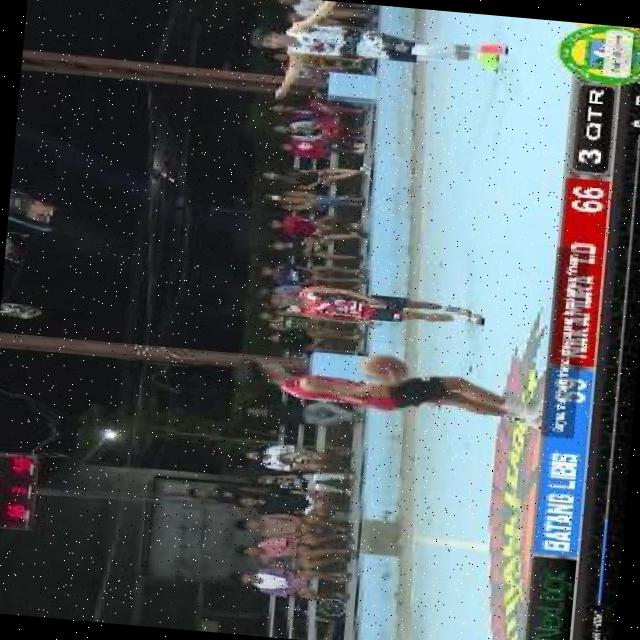ball: (358, 351, 410, 383)
